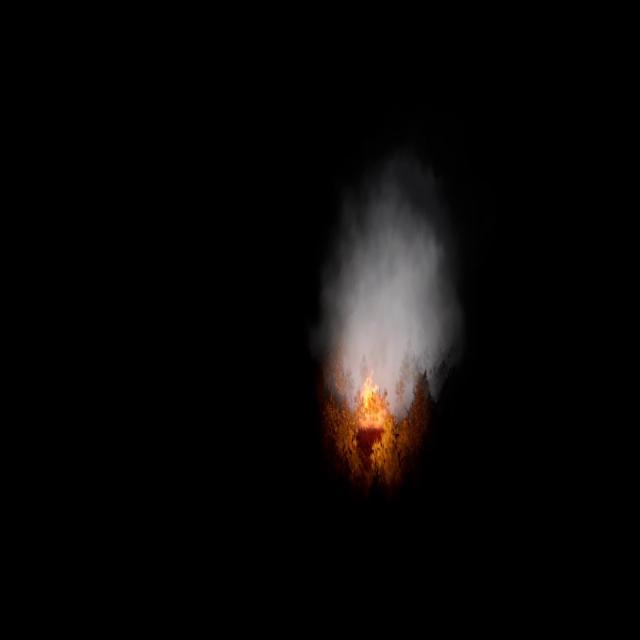fire: (353, 370, 395, 468)
smoke: (319, 165, 462, 422)
